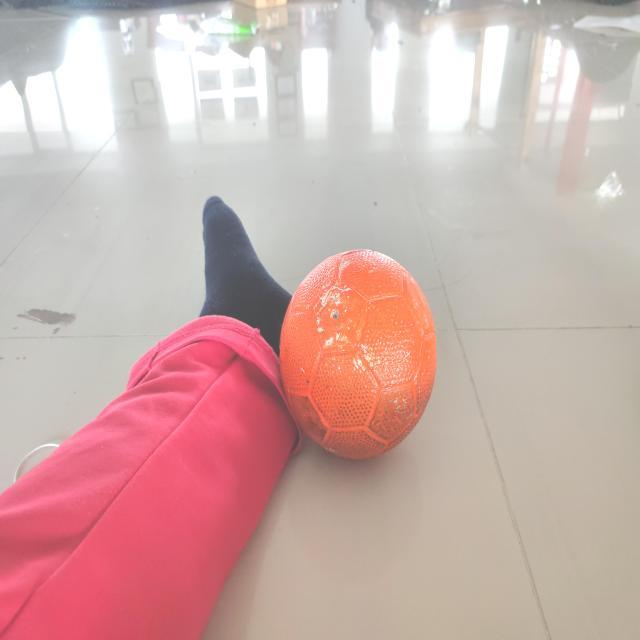bola: (266, 237, 442, 473)
